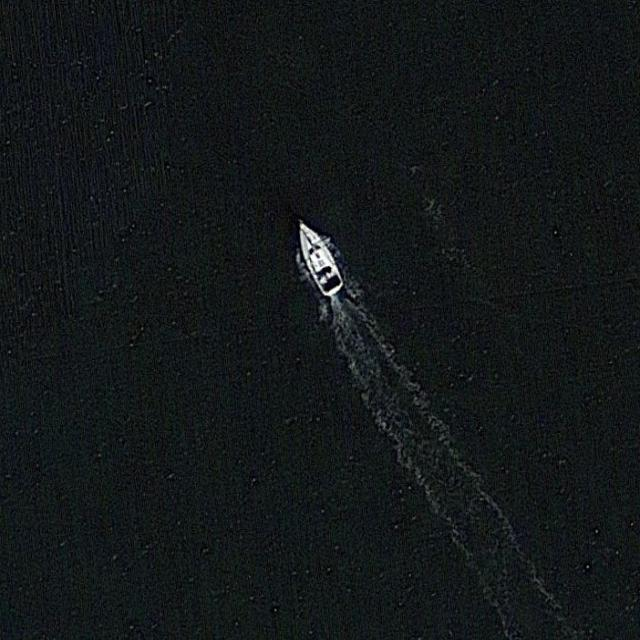ship: (296, 218, 348, 298)
